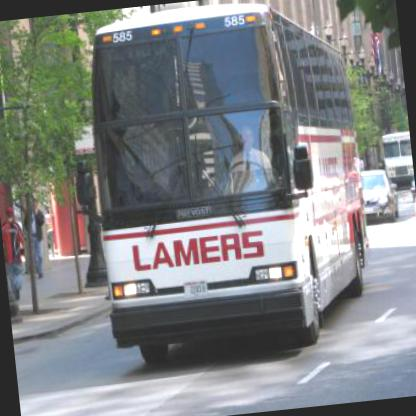bus: (57, 0, 377, 365)
